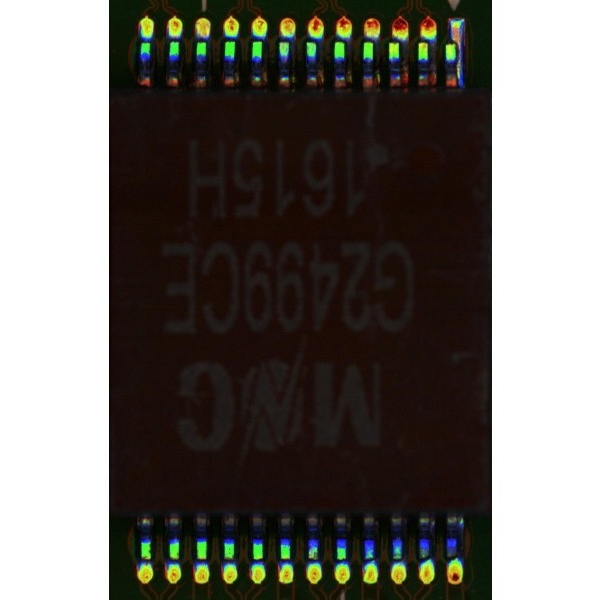Bad_qiaojiao: (456, 42, 461, 87)
